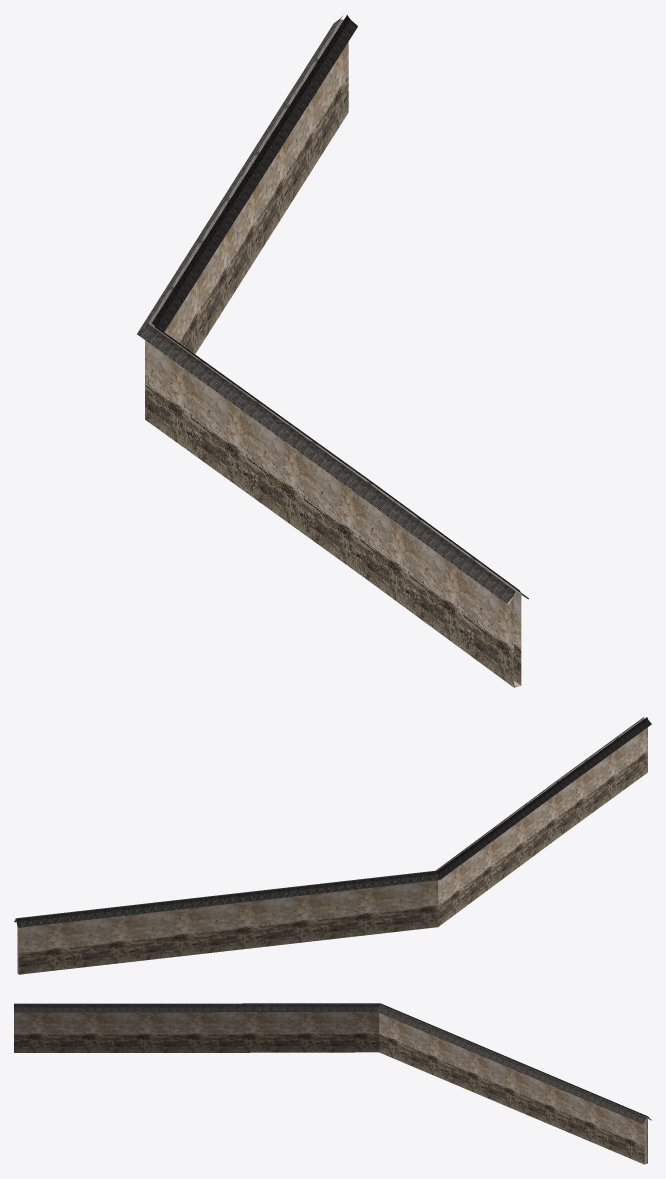
The model's file is ian1557.obj.
The picture shows the model from 3 angles, top to bottom: view 1: azimuth 30°, elevation 25°; view 2: azimuth 150°, elevation 25°; view 3: azimuth 270°, elevation 25°; orthographic projection. The views are drawn at different scales.
Visible parts, largest first — view 1: ian1557; view 2: ian1557; view 3: ian1557.
Part boxes in pixels (bbox=[...]): ian1557: bbox=[137, 15, 528, 687]; ian1557: bbox=[14, 716, 651, 974]; ian1557: bbox=[14, 1003, 651, 1164].
Size of the model in its own units: 359 by 68.61 by 823.
